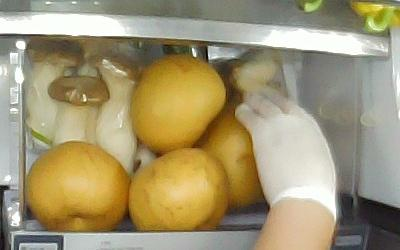pear: (24, 141, 131, 231), (130, 56, 226, 148), (128, 148, 228, 230)
